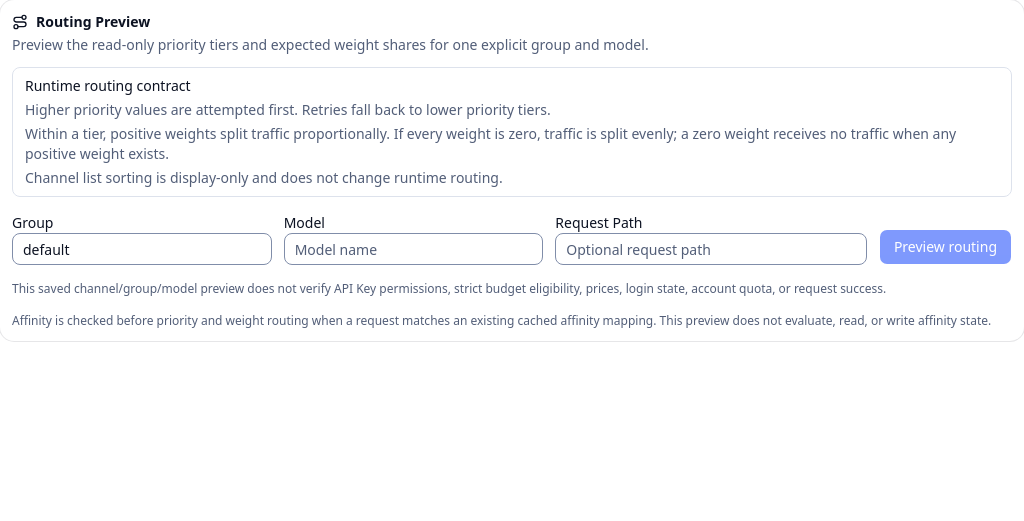
Test: channel routing preview › hides a prior successful preview after a refresh fails
Step 1. Type "gpt-test" into the field named "Routing preview model" → (413, 249), box x1=284 y1=233 x2=543 y2=265
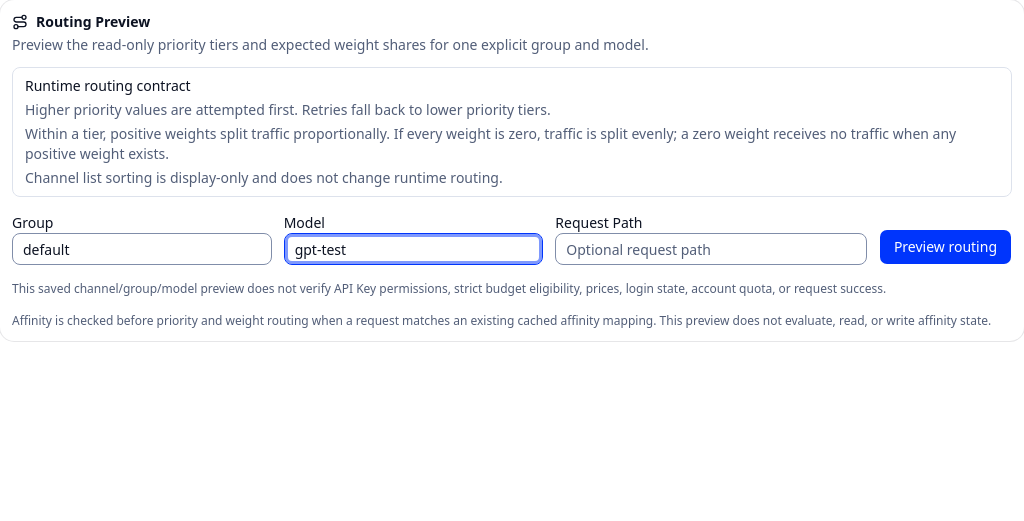
Step 2. Click the button "Preview routing" → (945, 247), box x1=879 y1=229 x2=1012 y2=265
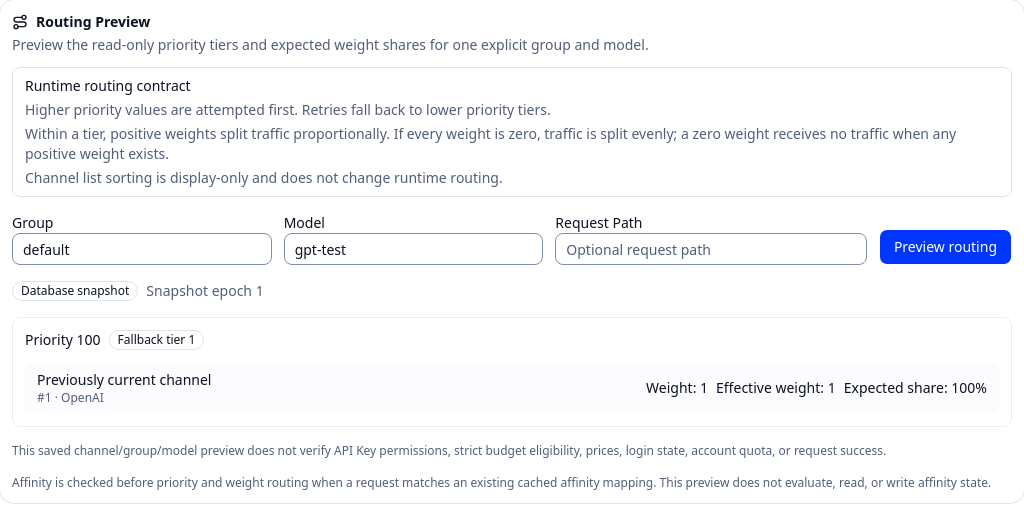
Now the text "Previously current channel" is shown, box x1=37 y1=370 x2=212 y2=389
Step 3. Click the button "Preview routing" → (945, 247), box x1=879 y1=229 x2=1012 y2=265
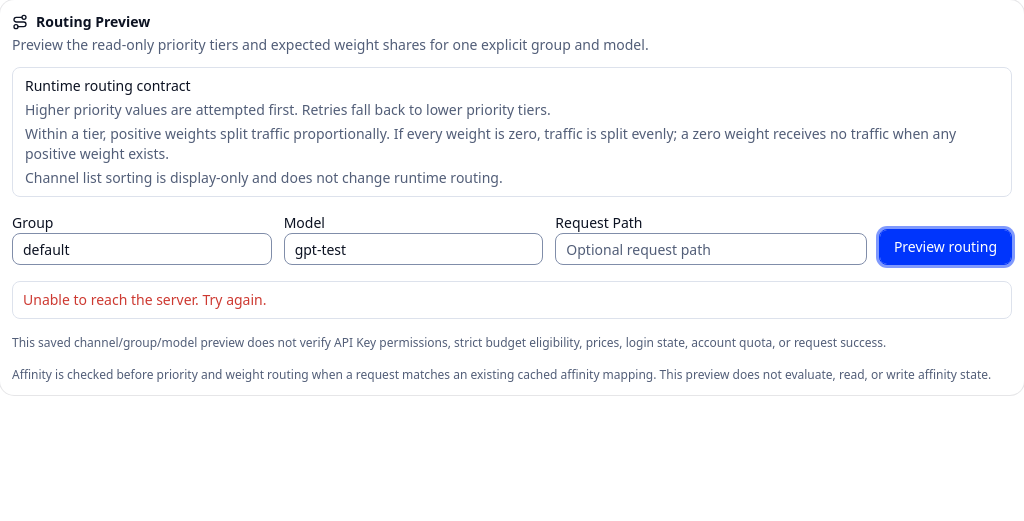
Now the text "Unable to reach the server. Try again." is shown, box x1=23 y1=290 x2=266 y2=309
Now the text "Previously current channel" is gone
